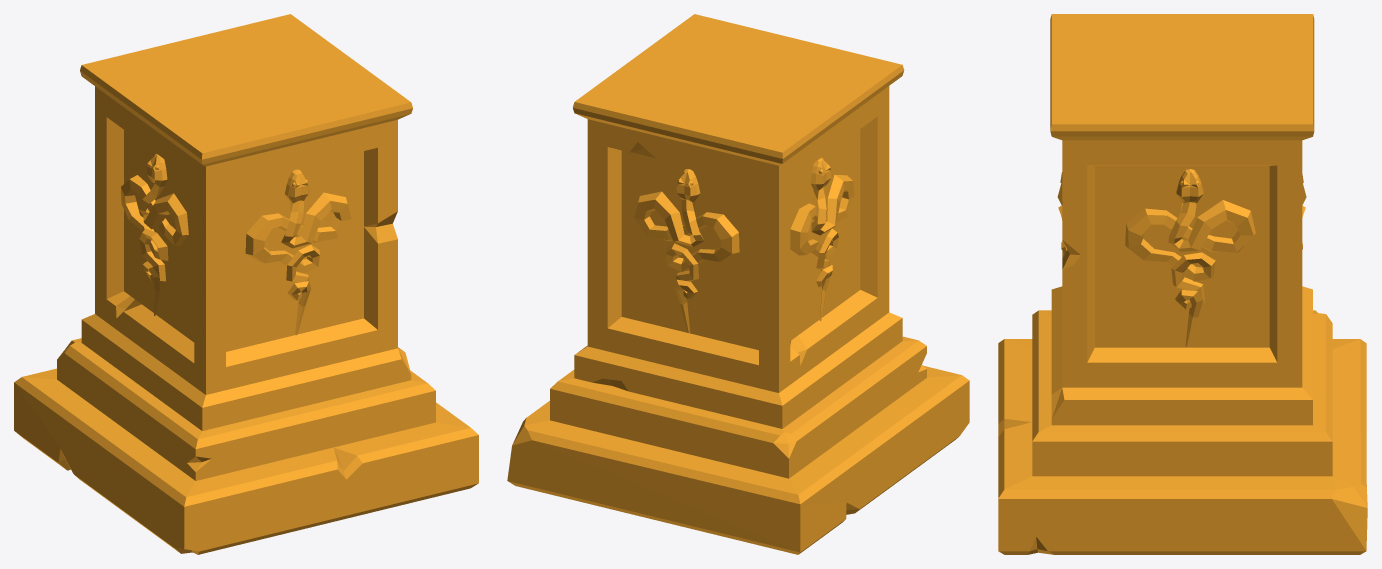
File: SM_Pedestal_Grand_D_Fantasy.fbx
3 views of the same model, side by side, from view 1: azimuth 30°, elevation 25°; view 2: azimuth 150°, elevation 25°; view 3: azimuth 270°, elevation 25° (orthographic). The views are drawn at different scales.
Visible parts, largest first — view 1: SM_Pedestal_Grand_Fantasy_D; view 2: SM_Pedestal_Grand_Fantasy_D; view 3: SM_Pedestal_Grand_Fantasy_D.
Boxes of the visible parts, box(x1,y1,x2,y2) form: SM_Pedestal_Grand_Fantasy_D: box(14, 14, 478, 554); SM_Pedestal_Grand_Fantasy_D: box(507, 14, 969, 554); SM_Pedestal_Grand_Fantasy_D: box(998, 14, 1367, 554).
Bounding box in the file's own units: 1.02 × 1.25 × 1.02.
